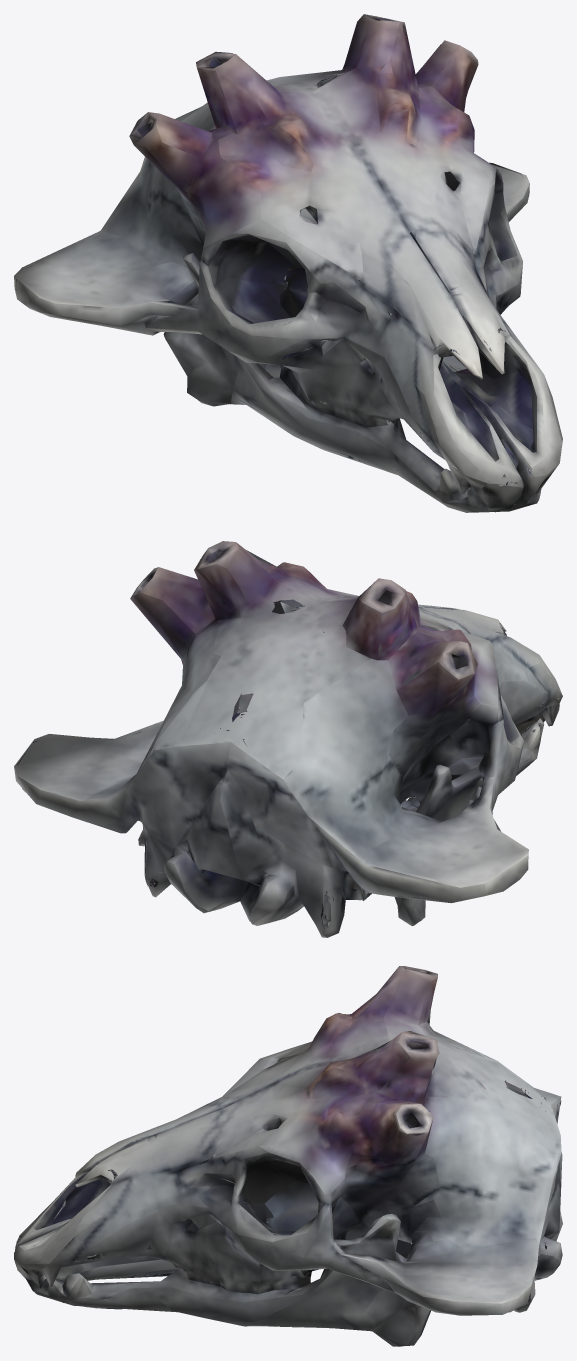
The model's file is star-devourer-leviathan-skull-optimized.glb.
3 views of the same model, one above another, from view 1: azimuth 30°, elevation 25°; view 2: azimuth 150°, elevation 25°; view 3: azimuth 270°, elevation 25° (orthographic). The views are drawn at different scales.
Parts seen in each view (by area): view 1: geometry_0; view 2: geometry_0; view 3: geometry_0.
Part boxes in pixels (x1,y1,x2,y2): geometry_0: (14, 14, 562, 512); geometry_0: (14, 541, 562, 937); geometry_0: (14, 966, 562, 1346).
Bounding box in the file's own units: 0.3479 × 0.2301 × 0.3769.
1 material, 1 textured.
